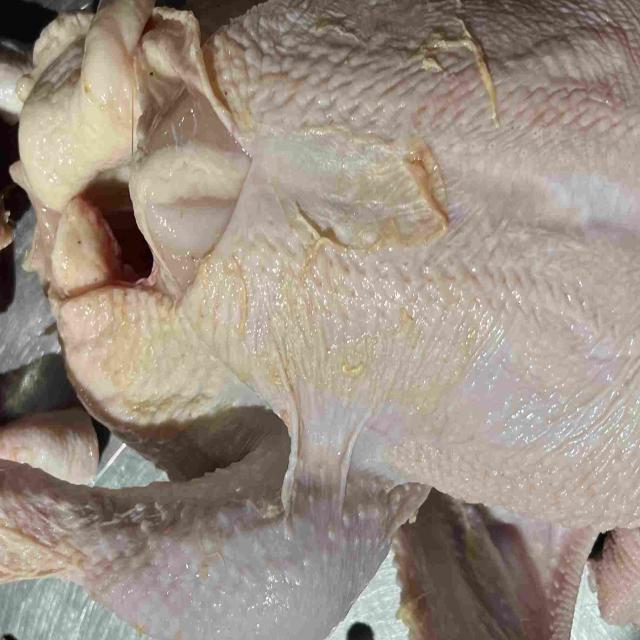breast: (136, 0, 640, 520)
leg: (0, 439, 430, 640)
wing: (396, 500, 610, 640)
